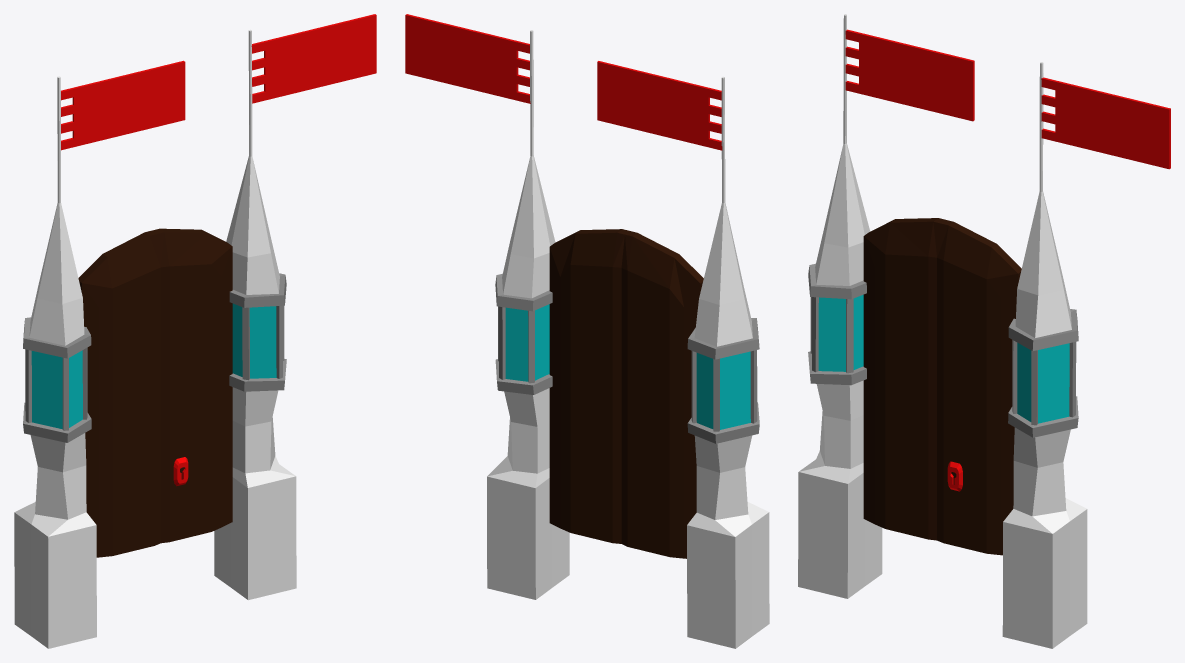
Rendered from Porte.FBX.
3 views of the same model, side by side, from view 1: azimuth 30°, elevation 25°; view 2: azimuth 150°, elevation 25°; view 3: azimuth 330°, elevation 25° (orthographic). The views are drawn at different scales.
Parts seen in each view (by area): view 1: Pillier, PorteG, PorteD, FlagG, flagD; view 2: Pillier, PorteG, PorteD, flagD, FlagG; view 3: Pillier, PorteD, PorteG, flagD, FlagG.
Part boxes in pixels (bbox=[...]): Pillier: bbox=[14, 29, 296, 648]; PorteG: bbox=[78, 230, 160, 557]; PorteD: bbox=[152, 228, 232, 543]; FlagG: bbox=[61, 60, 185, 150]; flagD: bbox=[251, 14, 376, 103]; Pillier: bbox=[487, 30, 769, 648]; PorteG: bbox=[621, 231, 703, 558]; PorteD: bbox=[549, 229, 629, 543]; flagD: bbox=[405, 14, 530, 103]; FlagG: bbox=[597, 61, 722, 150]; Pillier: bbox=[798, 14, 1087, 648]; PorteD: bbox=[937, 220, 1021, 555]; PorteG: bbox=[863, 218, 945, 540]; flagD: bbox=[1041, 77, 1170, 169]; FlagG: bbox=[845, 29, 974, 121].
Size of the model in its own units: 878 by 1311 by 186.
